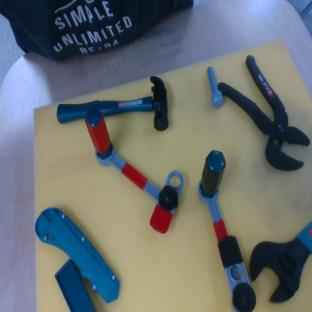non_pass: (190, 149, 258, 312)
pass: (67, 92, 203, 236)
